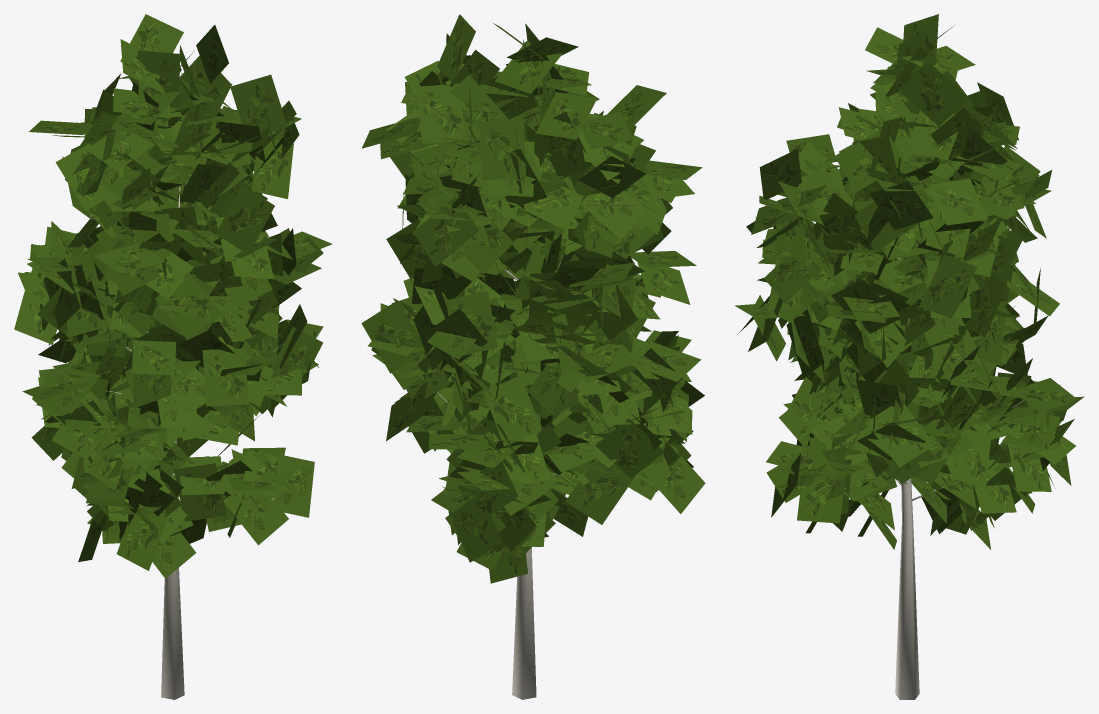
The model's file is near.glb.
The picture shows the model from 3 angles, left to right: view 1: azimuth 30°, elevation 25°; view 2: azimuth 150°, elevation 25°; view 3: azimuth 270°, elevation 25°; orthographic projection. The views are drawn at different scales.
Visible parts, largest first — view 1: foliage, bark; view 2: foliage, bark; view 3: foliage, bark.
Part boxes in pixels (bbox=[...]): foliage: bbox=[14, 14, 332, 578]; bark: bbox=[88, 187, 282, 699]; foliage: bbox=[361, 14, 705, 583]; bark: bbox=[414, 195, 640, 699]; foliage: bbox=[735, 14, 1084, 549]; bark: bbox=[806, 258, 1023, 699].
Size of the model in its own units: 9.56 by 20.45 by 9.65.
2 materials, 1 textured.
